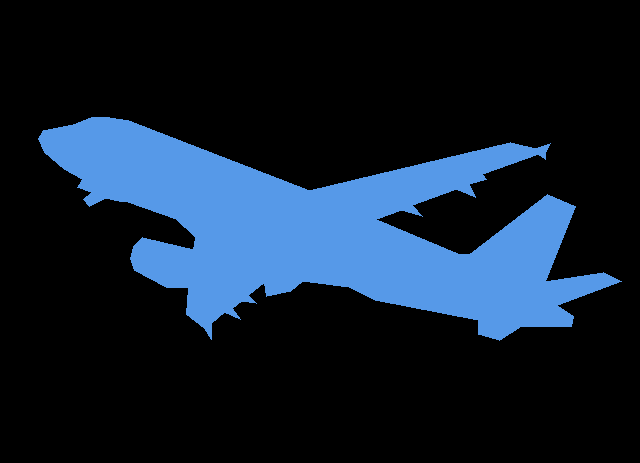Airplane: (38, 117, 621, 341)
